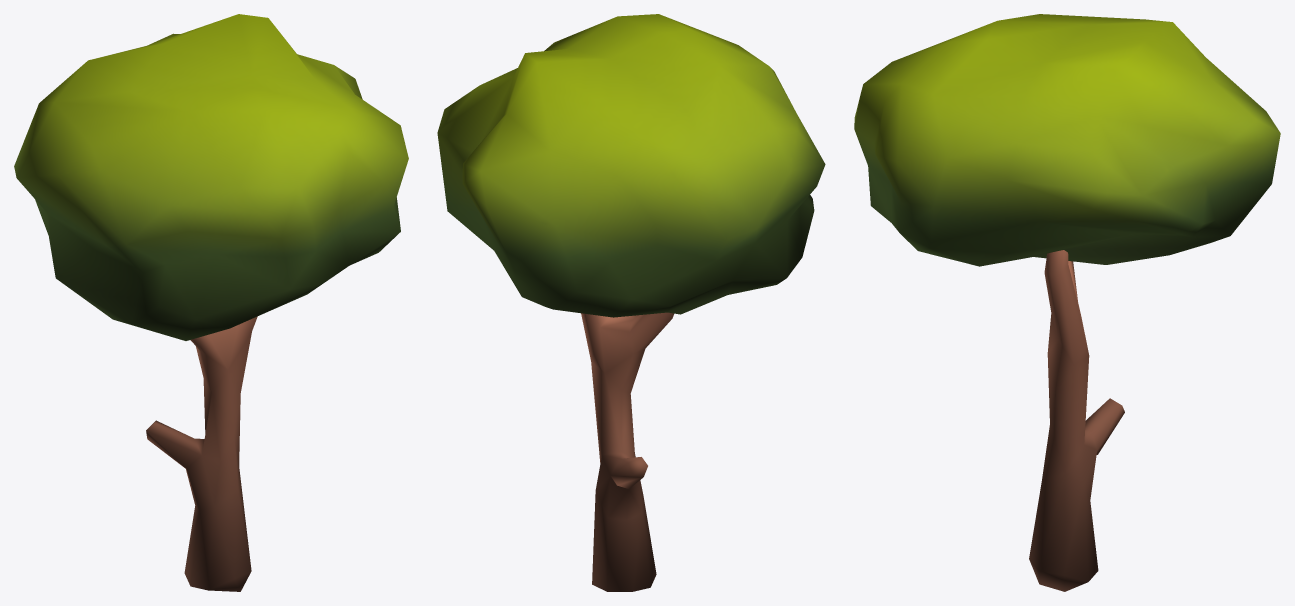
Rendered from Tree1.fbx.
The picture shows the model from 3 angles, left to right: view 1: azimuth 30°, elevation 25°; view 2: azimuth 150°, elevation 25°; view 3: azimuth 270°, elevation 25°; orthographic projection. The views are drawn at different scales.
Visible parts, largest first — view 1: Tree1.001; view 2: Tree1.001; view 3: Tree1.001.
Boxes of the visible parts, x1,y1,x2,y2 form: Tree1.001: [14, 14, 408, 591]; Tree1.001: [437, 14, 825, 591]; Tree1.001: [854, 14, 1280, 591].
Size of the model in its own units: 318 by 505 by 352.
